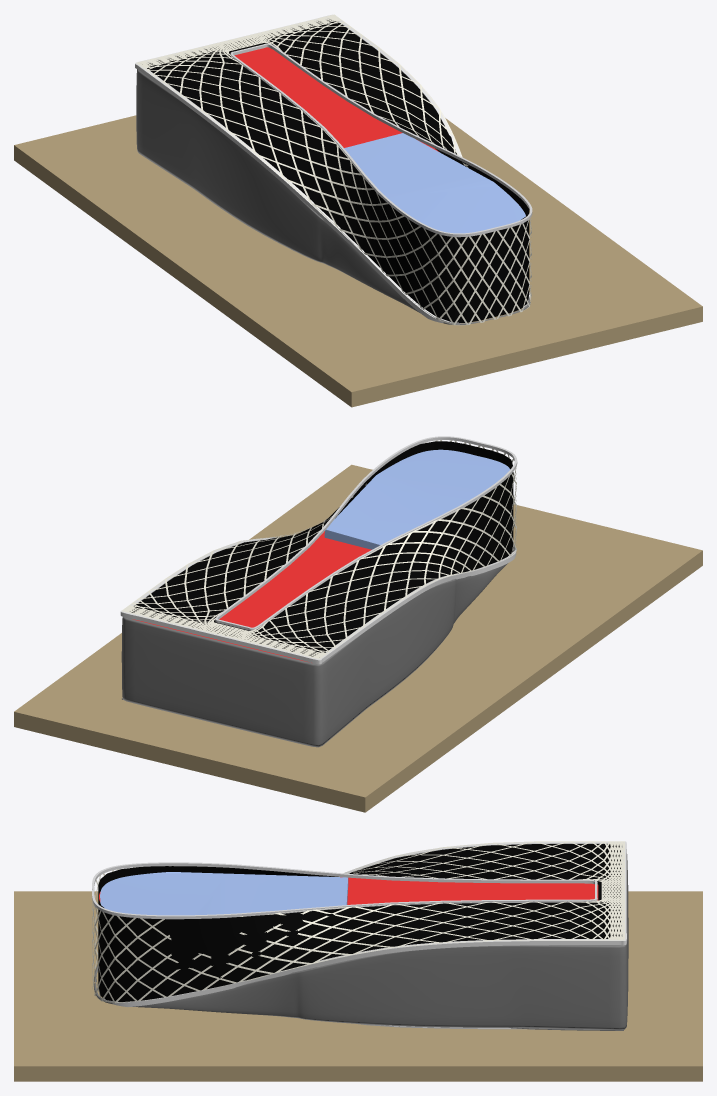
3 views of the same model, one above another, from view 1: azimuth 30°, elevation 25°; view 2: azimuth 150°, elevation 25°; view 3: azimuth 270°, elevation 25° (orthographic). The views are drawn at different scales.
Parts seen in each view (by area): view 1: Box001, Plane004, Plane013, Plane005, Shape004, Plane011, Shape002, Shape; view 2: Box001, Plane013, Plane004, Plane005, Shape004, Plane011, Shape002, Shape; view 3: Box001, Plane004, Plane013, Plane005, Shape004, Plane011, Shape, Shape002.
Boxes of the visible parts, x1=… form: Box001: x1=14, y1=115, x2=702, y2=407; Plane004: x1=147, y1=19, x2=529, y2=322; Plane013: x1=136, y1=69, x2=530, y2=324; Plane005: x1=136, y1=14, x2=531, y2=325; Shape004: x1=344, y1=133, x2=525, y2=233; Plane011: x1=234, y1=47, x2=431, y2=147; Shape002: x1=135, y1=14, x2=530, y2=322; Shape: x1=230, y1=43, x2=532, y2=237; Box001: x1=14, y1=464, x2=702, y2=812; Plane013: x1=121, y1=545, x2=515, y2=747; Plane004: x1=130, y1=441, x2=513, y2=656; Plane005: x1=121, y1=440, x2=516, y2=659; Shape004: x1=324, y1=449, x2=510, y2=549; Plane011: x1=132, y1=531, x2=371, y2=662; Shape002: x1=120, y1=537, x2=516, y2=664; Shape: x1=215, y1=436, x2=517, y2=630; Box001: x1=14, y1=891, x2=702, y2=1081; Plane004: x1=98, y1=844, x2=620, y2=1001; Plane013: x1=94, y1=847, x2=628, y2=1029; Plane005: x1=92, y1=841, x2=624, y2=1003; Shape004: x1=100, y1=872, x2=348, y2=915; Plane011: x1=99, y1=877, x2=598, y2=904; Shape: x1=92, y1=862, x2=597, y2=919; Shape002: x1=104, y1=841, x2=626, y2=1006.
Bounding box in the file's own units: 2407 × 697 × 4005.
